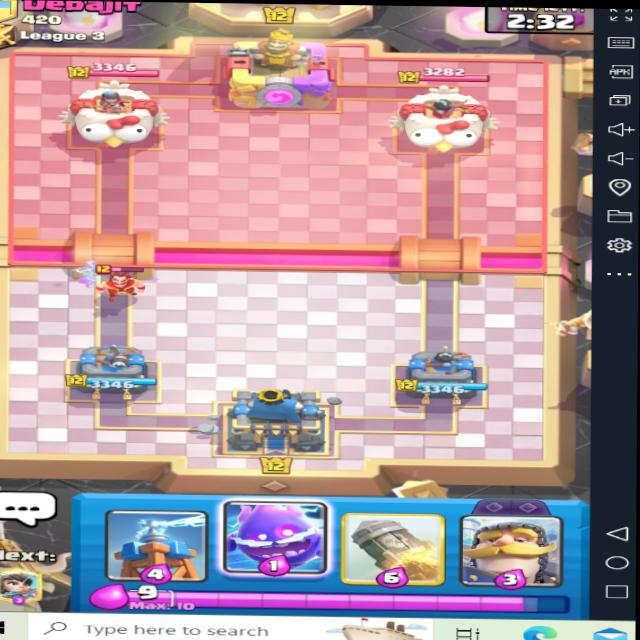Ewiz: (99, 263, 151, 306)
